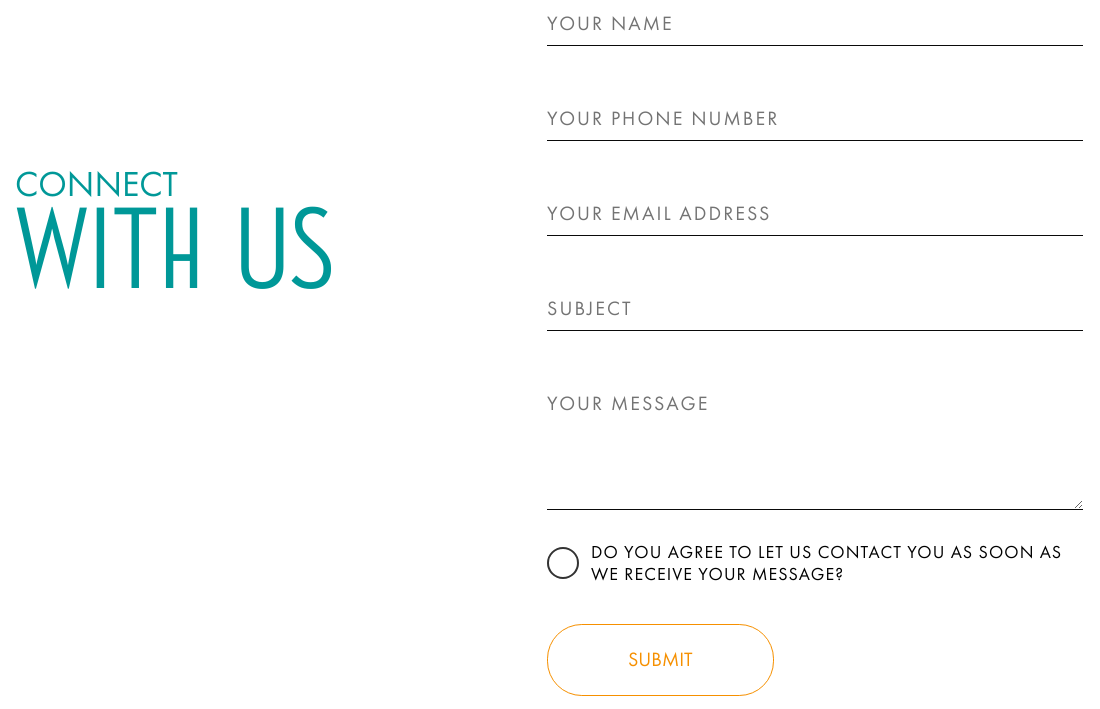
Test: Contact Form Component › Form Validation › should show validation errors for empty required fields
Click the button "Submit" at (660, 660), box [547,624,774,696]
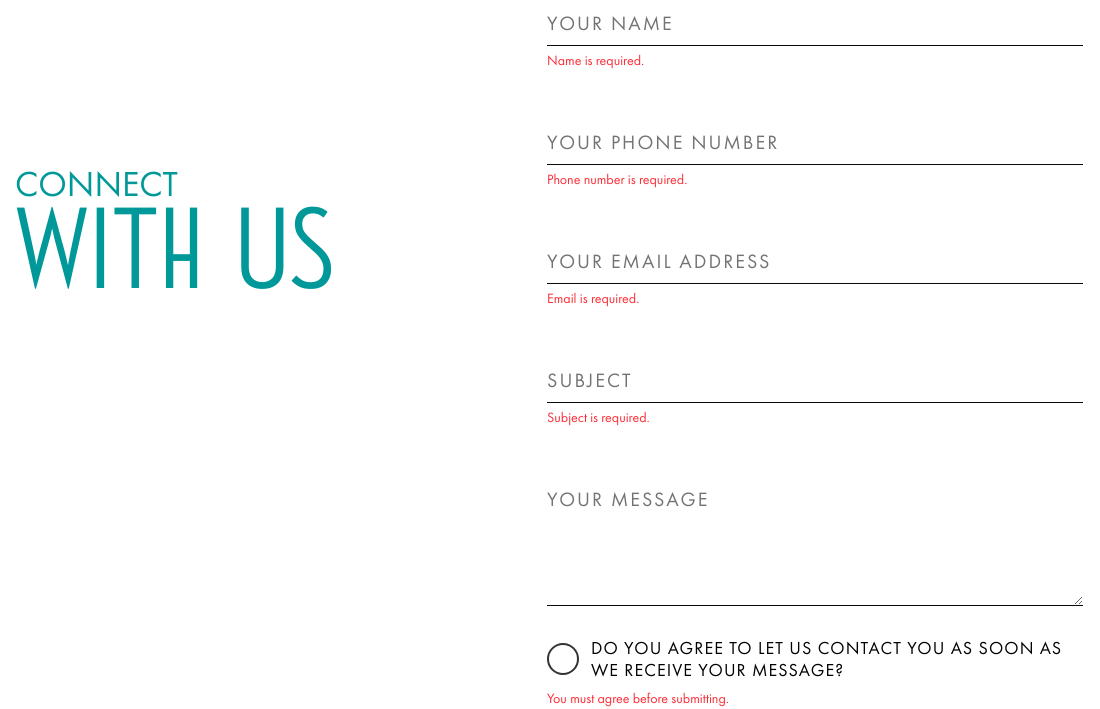
Result: the text "Name is required." is shown at [547,51,644,69]
Result: the text "Phone number is required." is shown at [547,170,687,188]
Result: the text "Email is required." is shown at [547,289,639,307]
